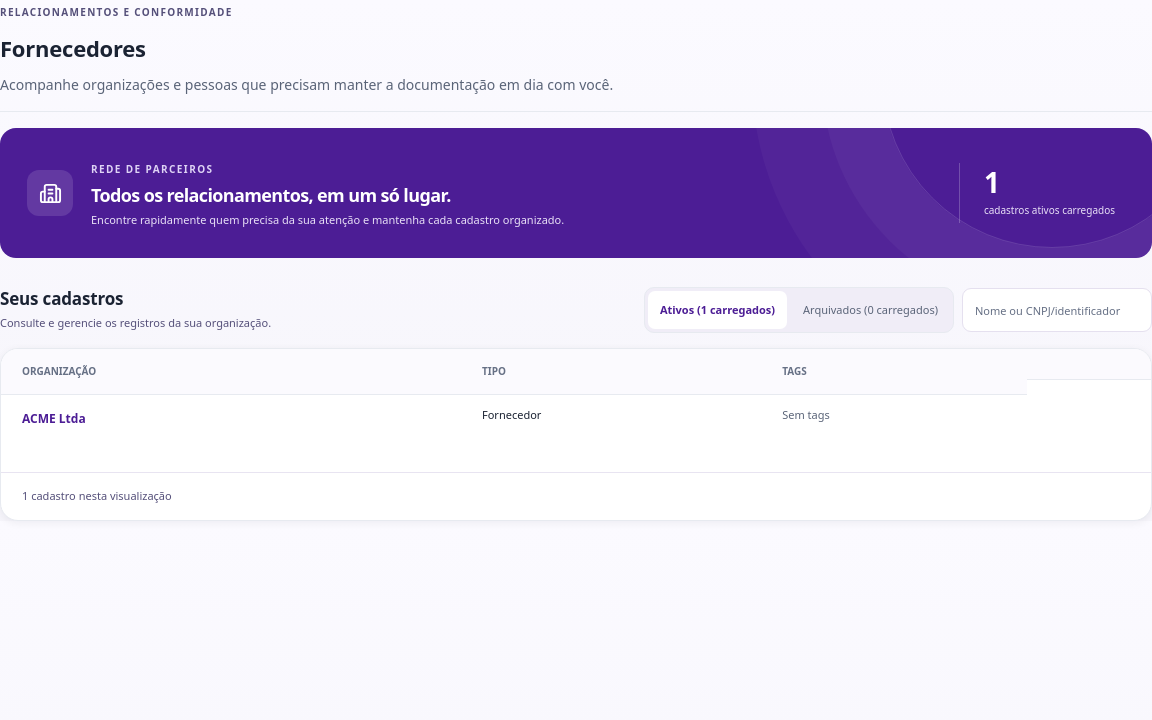
Test: SubjectsCollection › switching to the Arquivados tab queries status=ARCHIVED
Click the button "Arquivados (0 carregados)" at [870, 310], box 791,291 -> 950,329
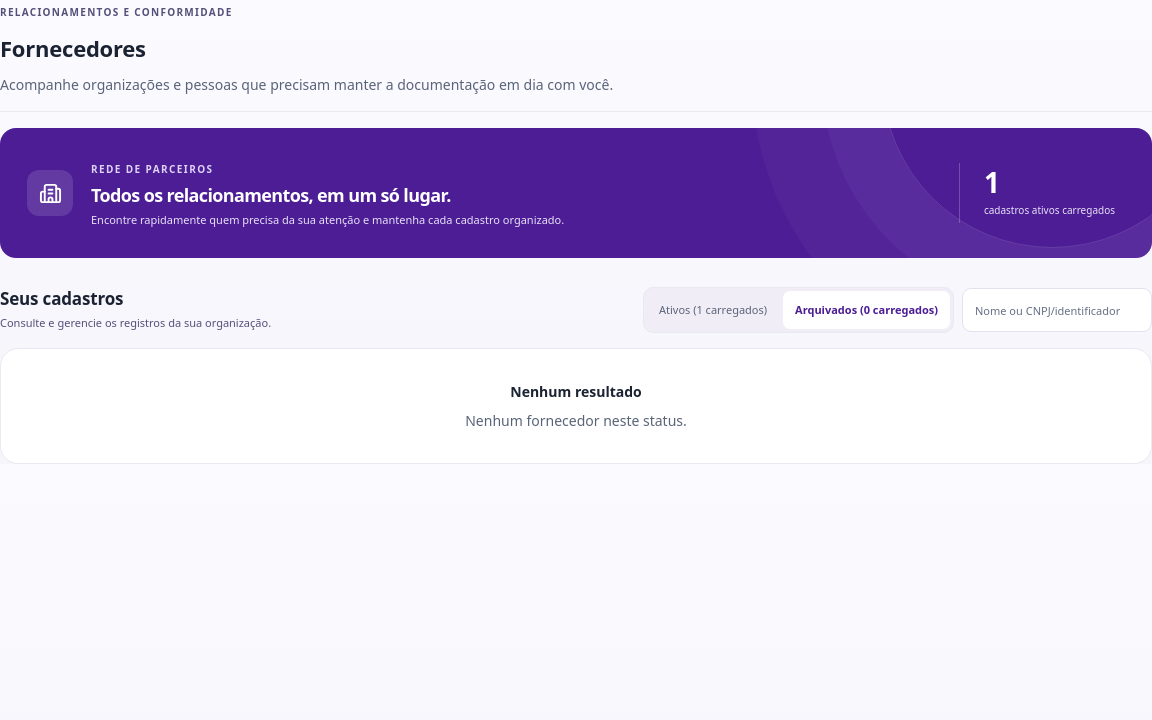
Check: the text "Nenhum fornecedor neste status." is shown, box 465,411 -> 687,430
